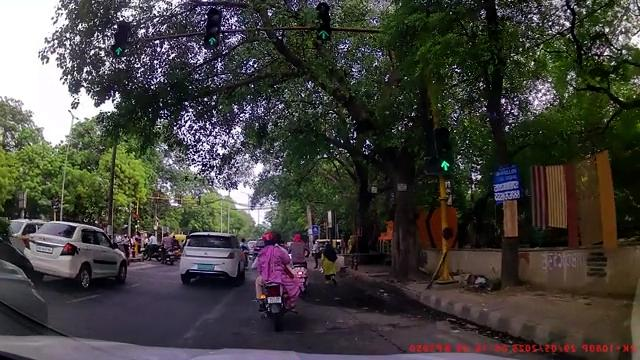passenger_with_helmet: (252, 231, 302, 329)
